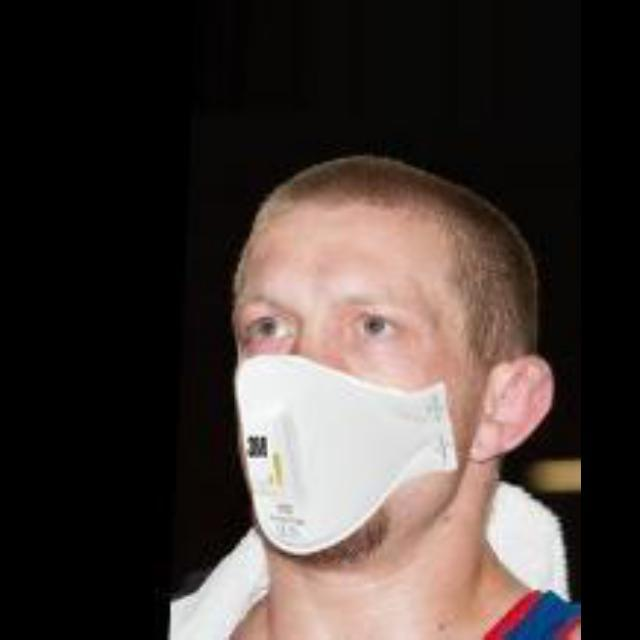suspicion: (186, 149, 530, 601)
